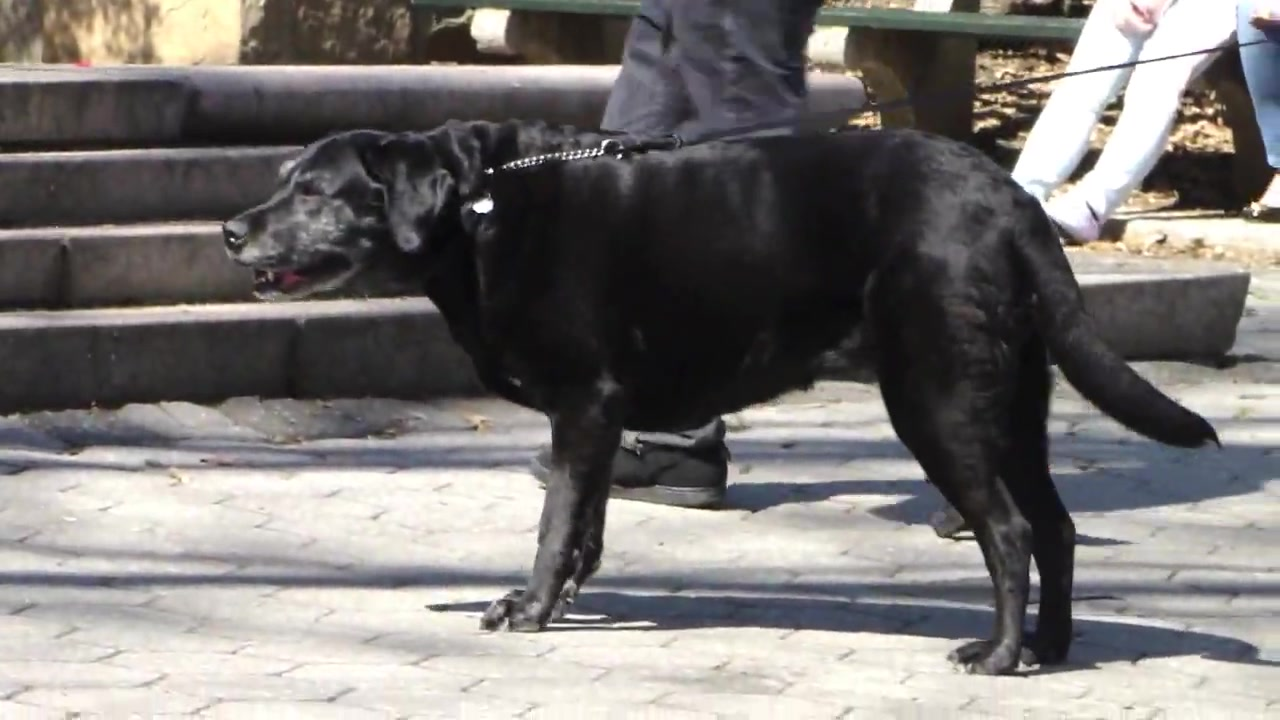dog: (220, 121, 1223, 675)
